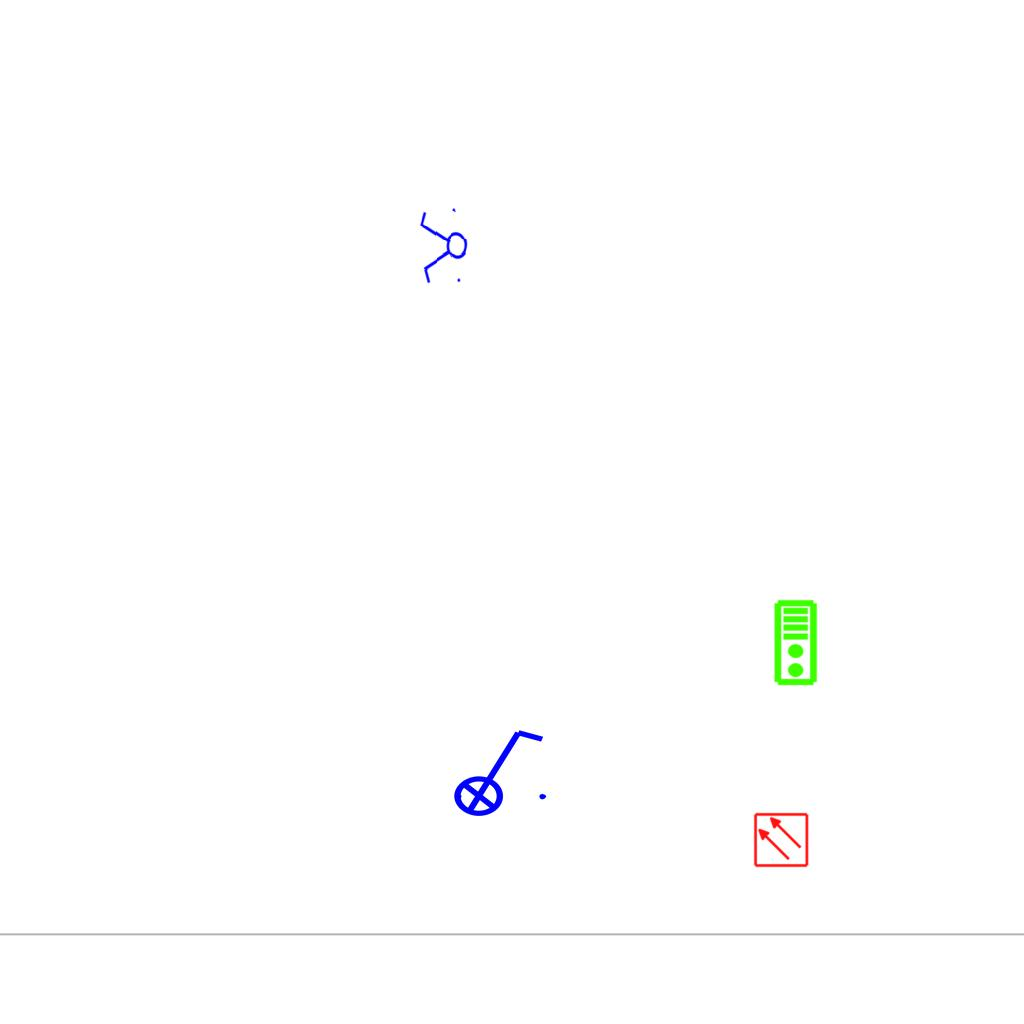Ausschalter_beleuchtet: (440, 722, 552, 818)
Gegensprechanlage_mit_Video: (773, 599, 820, 687)
RMO_Rauchmelder_optischer: (753, 812, 809, 868)
Serienschalter: (417, 203, 471, 291)
